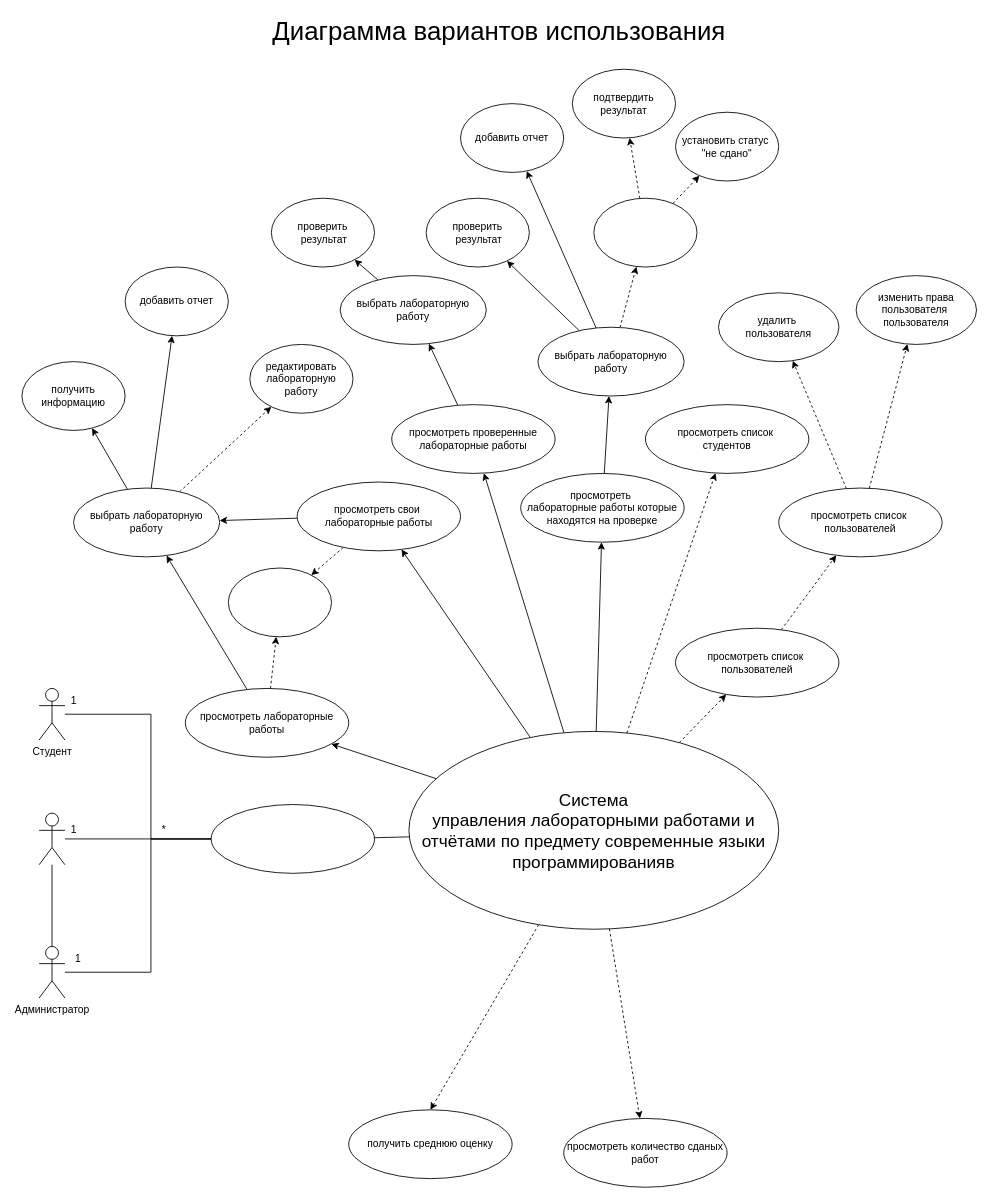
Some shapes in this 992 by 1202 pixel diagram are drawn without their labels. Each missing label, with the box of its shape:
Авторизовать / Зарегистрировать: (210, 804, 375, 873)
начать проверку: (593, 197, 697, 267)
Преподователь: (38, 812, 65, 865)
создать лабораторную работу: (227, 567, 332, 637)
